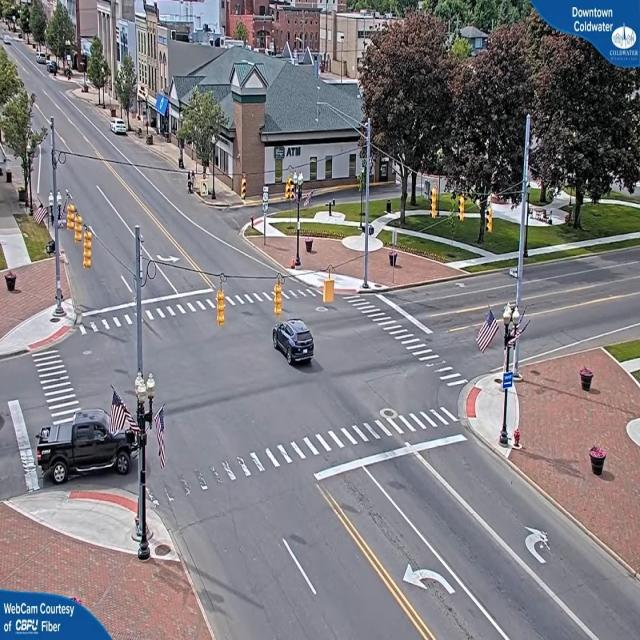car: (34, 416, 133, 483), (271, 320, 315, 366), (111, 121, 130, 138)
